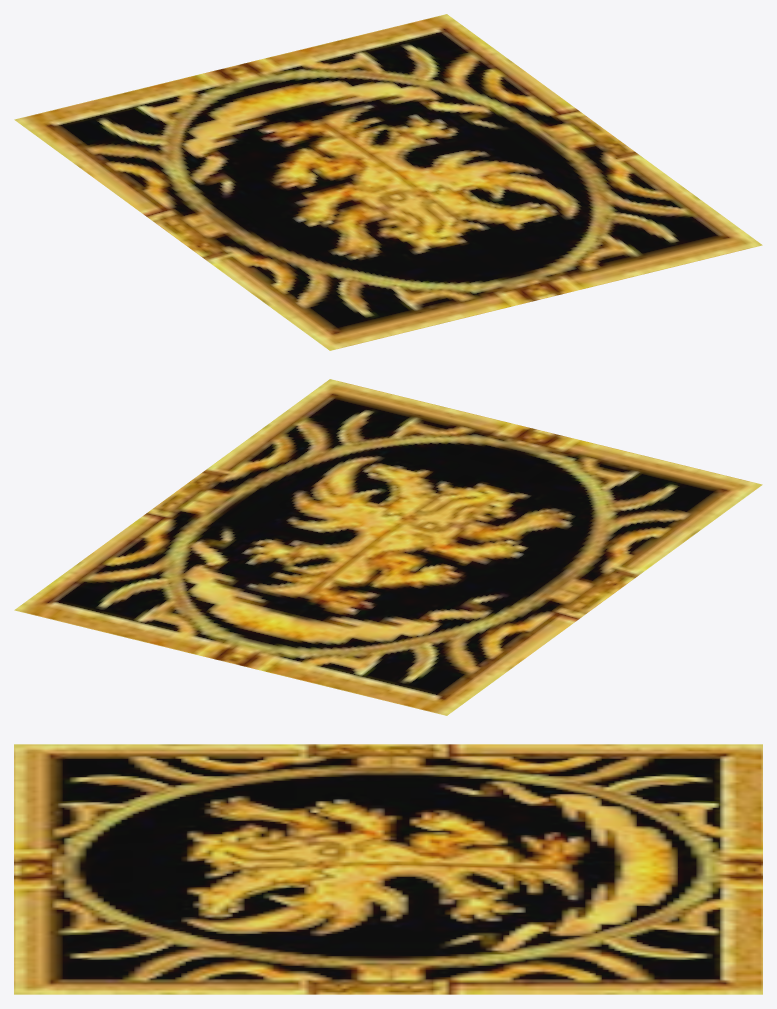
File: charactercard.glb
3 renders of one model, top to bottom at view 1: azimuth 30°, elevation 25°; view 2: azimuth 150°, elevation 25°; view 3: azimuth 270°, elevation 25°, orthographic. The views are drawn at different scales.
Parts seen in each view (by area): view 1: model_charactercard; view 2: model_charactercard; view 3: model_charactercard.
Part boxes in pixels (<box>): model_charactercard: <box>14,14,762,350</box>; model_charactercard: <box>14,379,762,715</box>; model_charactercard: <box>14,744,762,994</box>.
Size of the model in its own units: 0.3851 by 0.0146 by 0.4869.
Materials: 1 (1 with a texture image).
